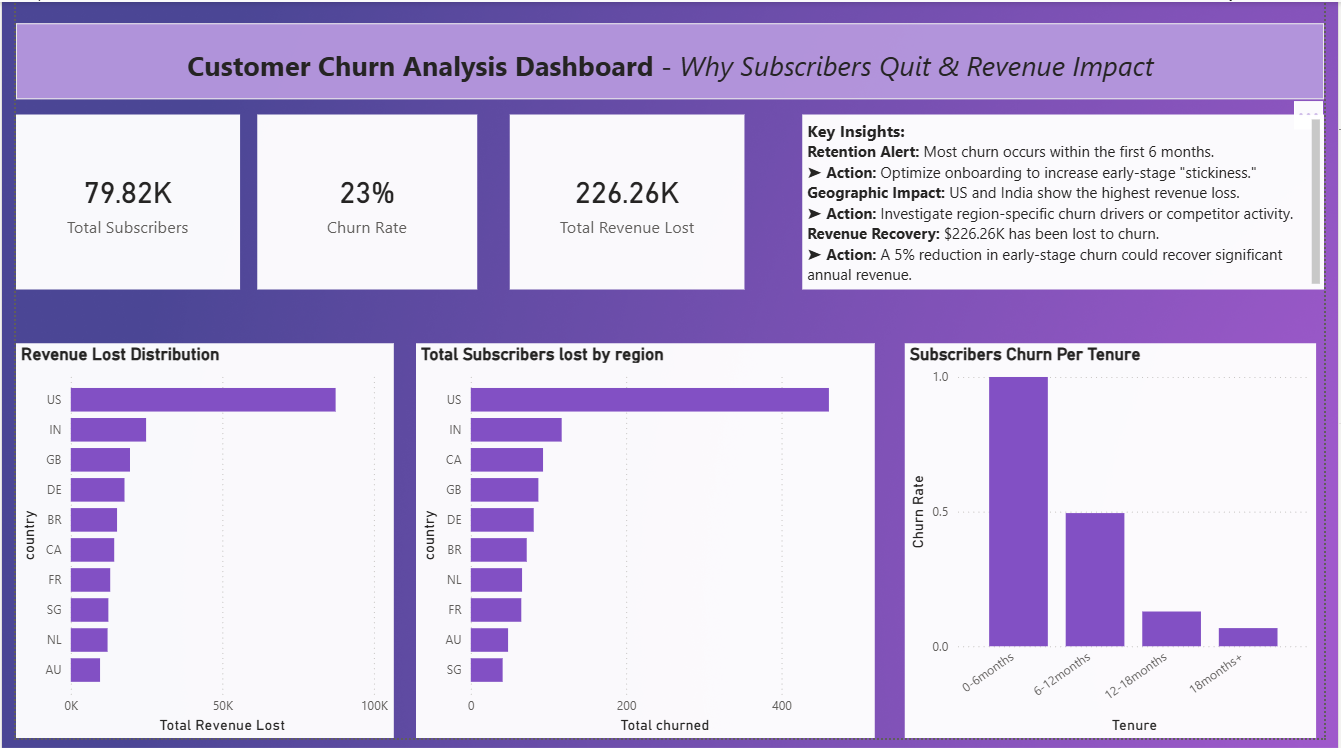

Layout of this report page (visuals, bound fields, positions):
{"tool":"powerbi","page":{"name":"Page 1","canvas":[1280,720],"ordinal":0},"visuals":[{"type":"textbox","box":[0,20.8,1280.3,74.6],"z":0},{"type":"card","fields":{"Values":["CountNonNull(saas-users_monthly.user_id)"]},"box":[0,110.1,218.9,171.2],"z":1000},{"type":"card","fields":{"Values":["saas-users.Churn Rate"]},"box":[236,110.1,215.2,171.2],"z":2000},{"type":"card","fields":{"Values":["saas-users.Total Revenue Lost"]},"box":[483,110.1,229.9,171.2],"z":3000},{"type":"barChart","title":"Total Subscribers lost by region","fields":{"Category":["saas-users.country"],"Y":["Sum(saas-users.churned)"]},"box":[391.3,333.8,448.8,386.4],"z":3001},{"type":"clusteredBarChart","title":"Revenue Lost Distribution","fields":{"Category":["saas-users.country"],"Y":["saas-users.Total Revenue Lost"]},"box":[0,333.8,369.3,386.4],"z":3002},{"type":"clusteredColumnChart","title":"Subscribers Churn Per Tenure","fields":{"Category":["saas-users.Tenure"],"Y":["saas-users.Churn Rate"]},"box":[869.4,333.8,402.3,386.4],"z":3004},{"type":"textbox","box":[769.2,110.1,511.1,171.2],"z":3005}]}

Visuals, with their boxes in screenshot pixels (x1, y1, x2, y2), scaled from the page's 1280x720 canvas onto the 1341x748 screenshot:
textbox: (0,22,1340,99)
card - CountNonNull(saas-users_monthly.user_id): (0,114,229,292)
card - saas-users.Churn Rate: (247,114,473,292)
card - saas-users.Total Revenue Lost: (506,114,747,292)
"Total Subscribers lost by region" barChart: (410,347,880,747)
"Revenue Lost Distribution" clusteredBarChart: (0,347,387,747)
"Subscribers Churn Per Tenure" clusteredColumnChart: (911,347,1332,747)
textbox: (806,114,1340,292)
